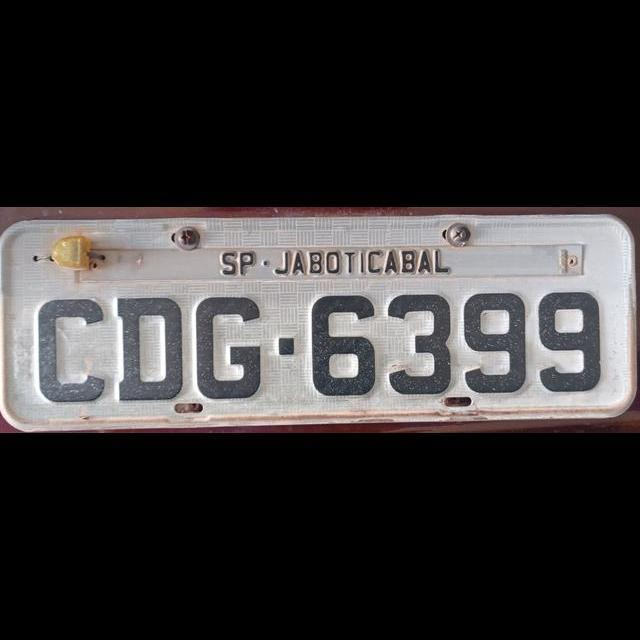Caractere: (33, 296, 107, 404), (459, 289, 533, 395), (386, 290, 458, 398), (193, 294, 263, 401), (310, 292, 378, 400), (116, 294, 184, 402), (536, 288, 604, 394)
Placa: (0, 218, 636, 426)
